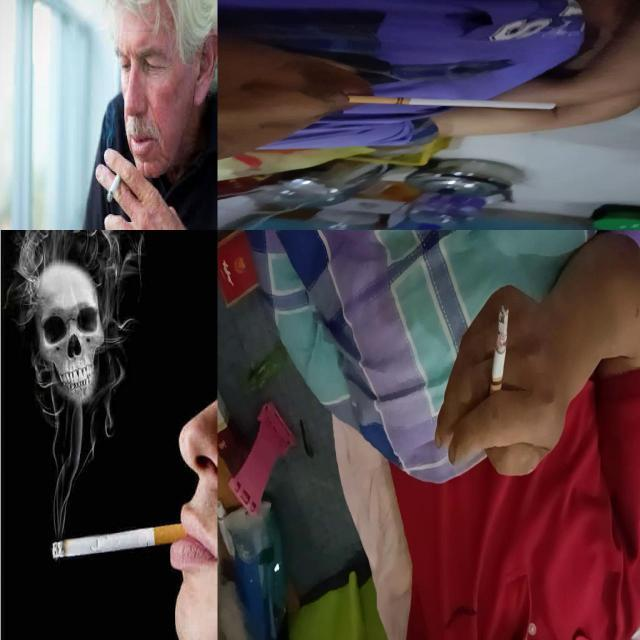smoke: (52, 524, 186, 560), (346, 96, 558, 110), (488, 304, 510, 416), (106, 166, 124, 204)
